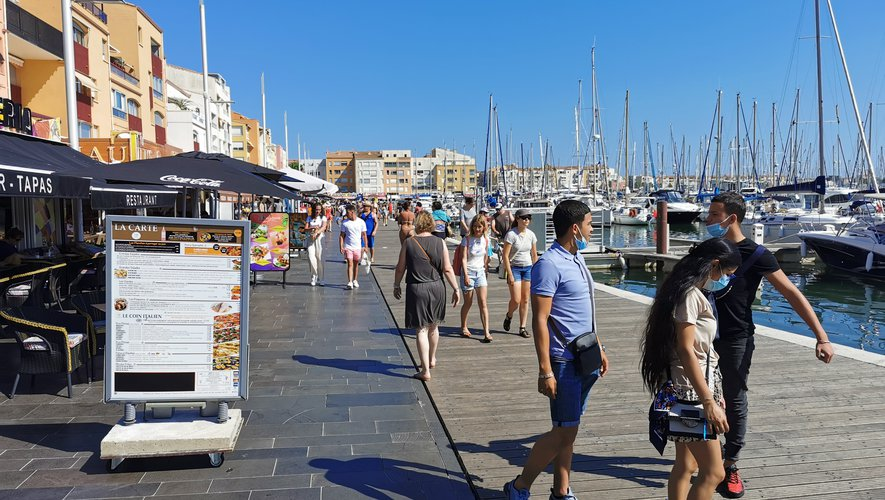with_incorrect_mask: (565, 212, 597, 253), (702, 200, 735, 238)
with_mask: (699, 263, 737, 301)
without_mask: (472, 220, 487, 240), (515, 216, 531, 227)
